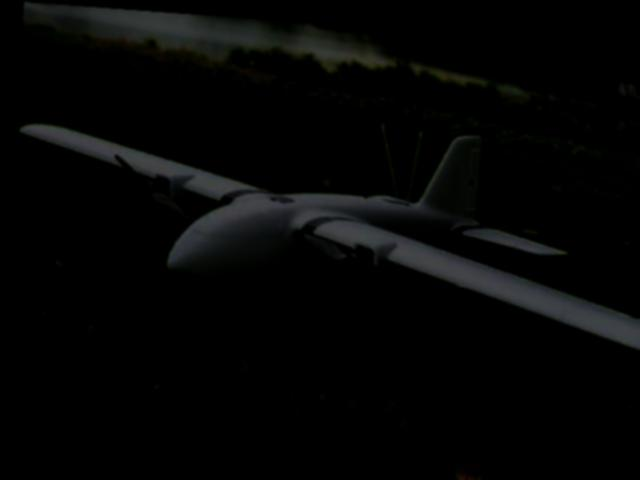uav: (2, 44, 640, 365)
